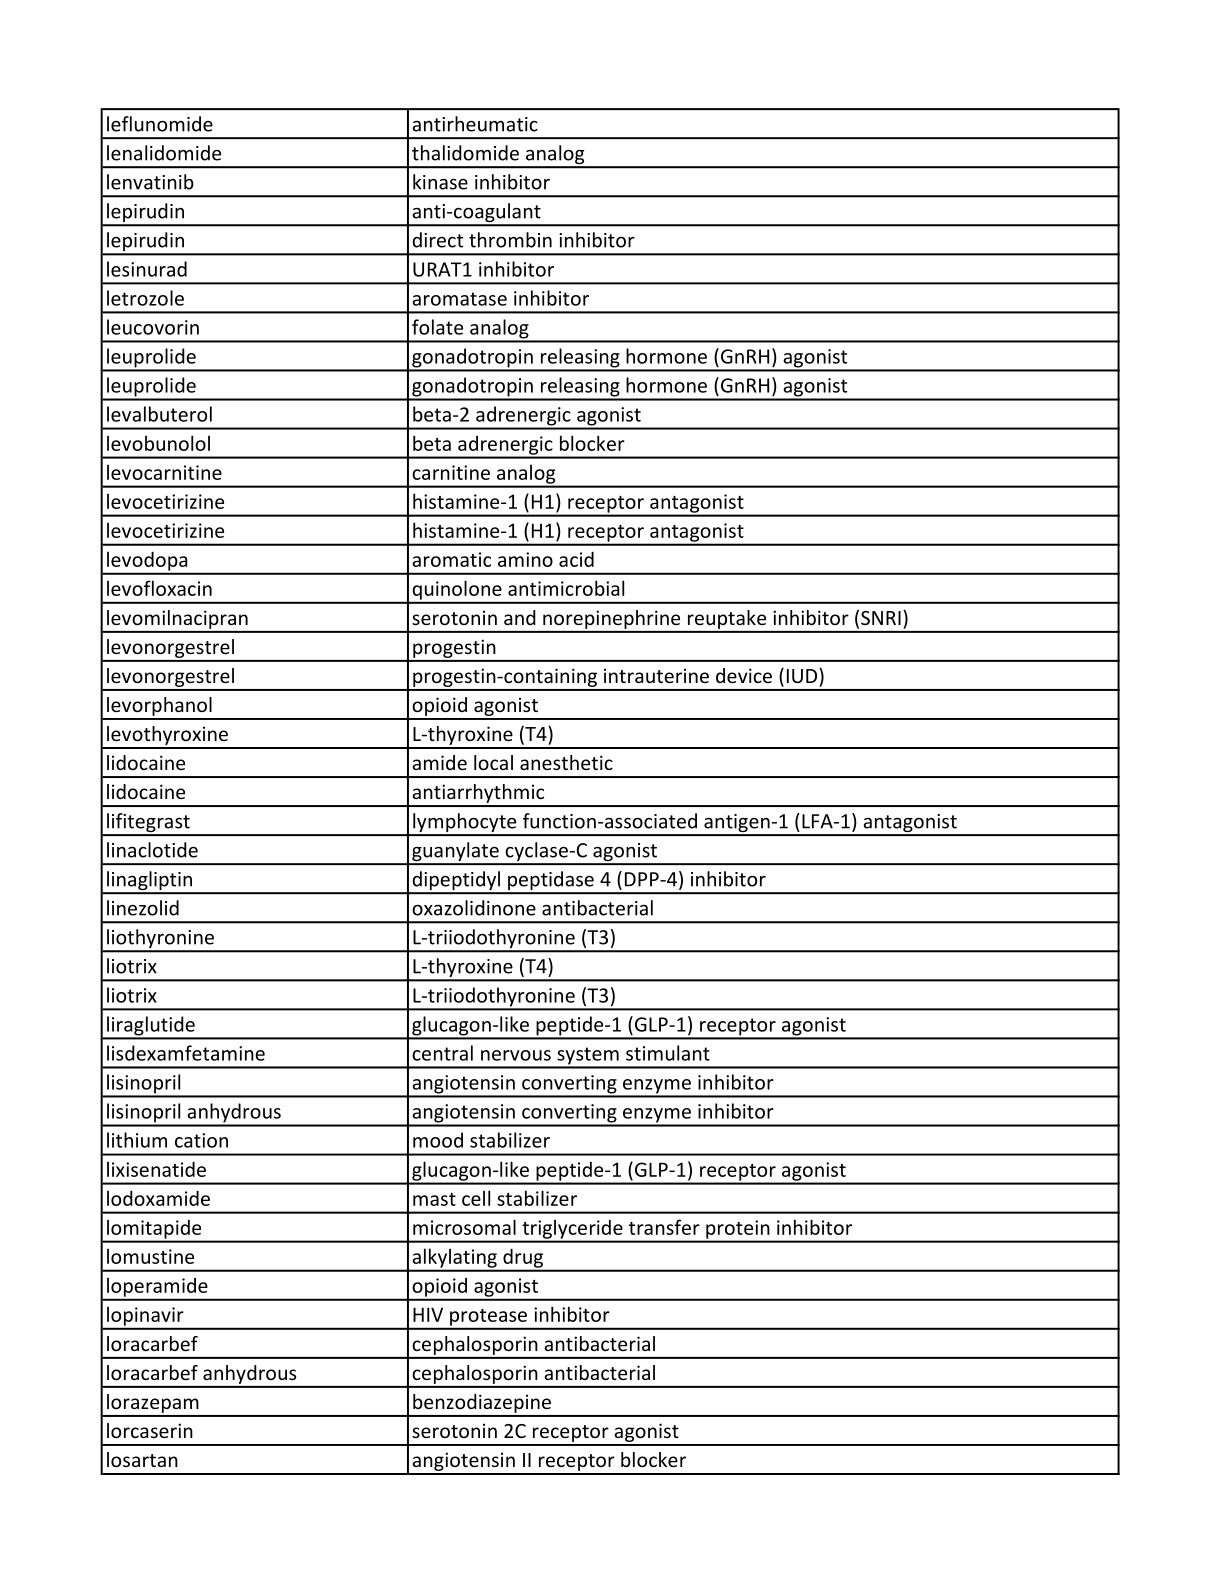full_lined: (100, 108, 1121, 1477)
